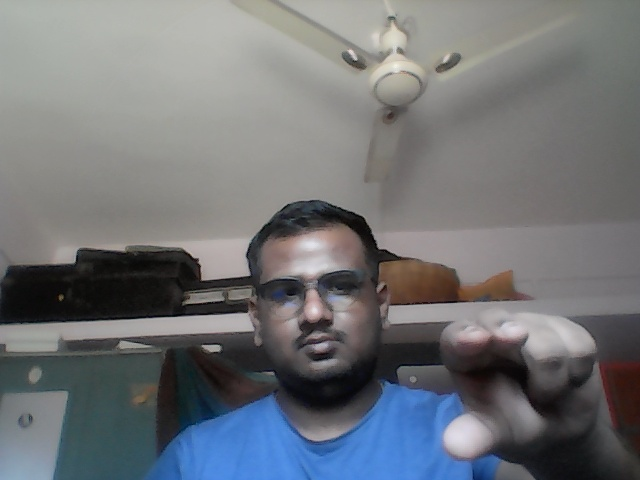No: (439, 303, 614, 467)
